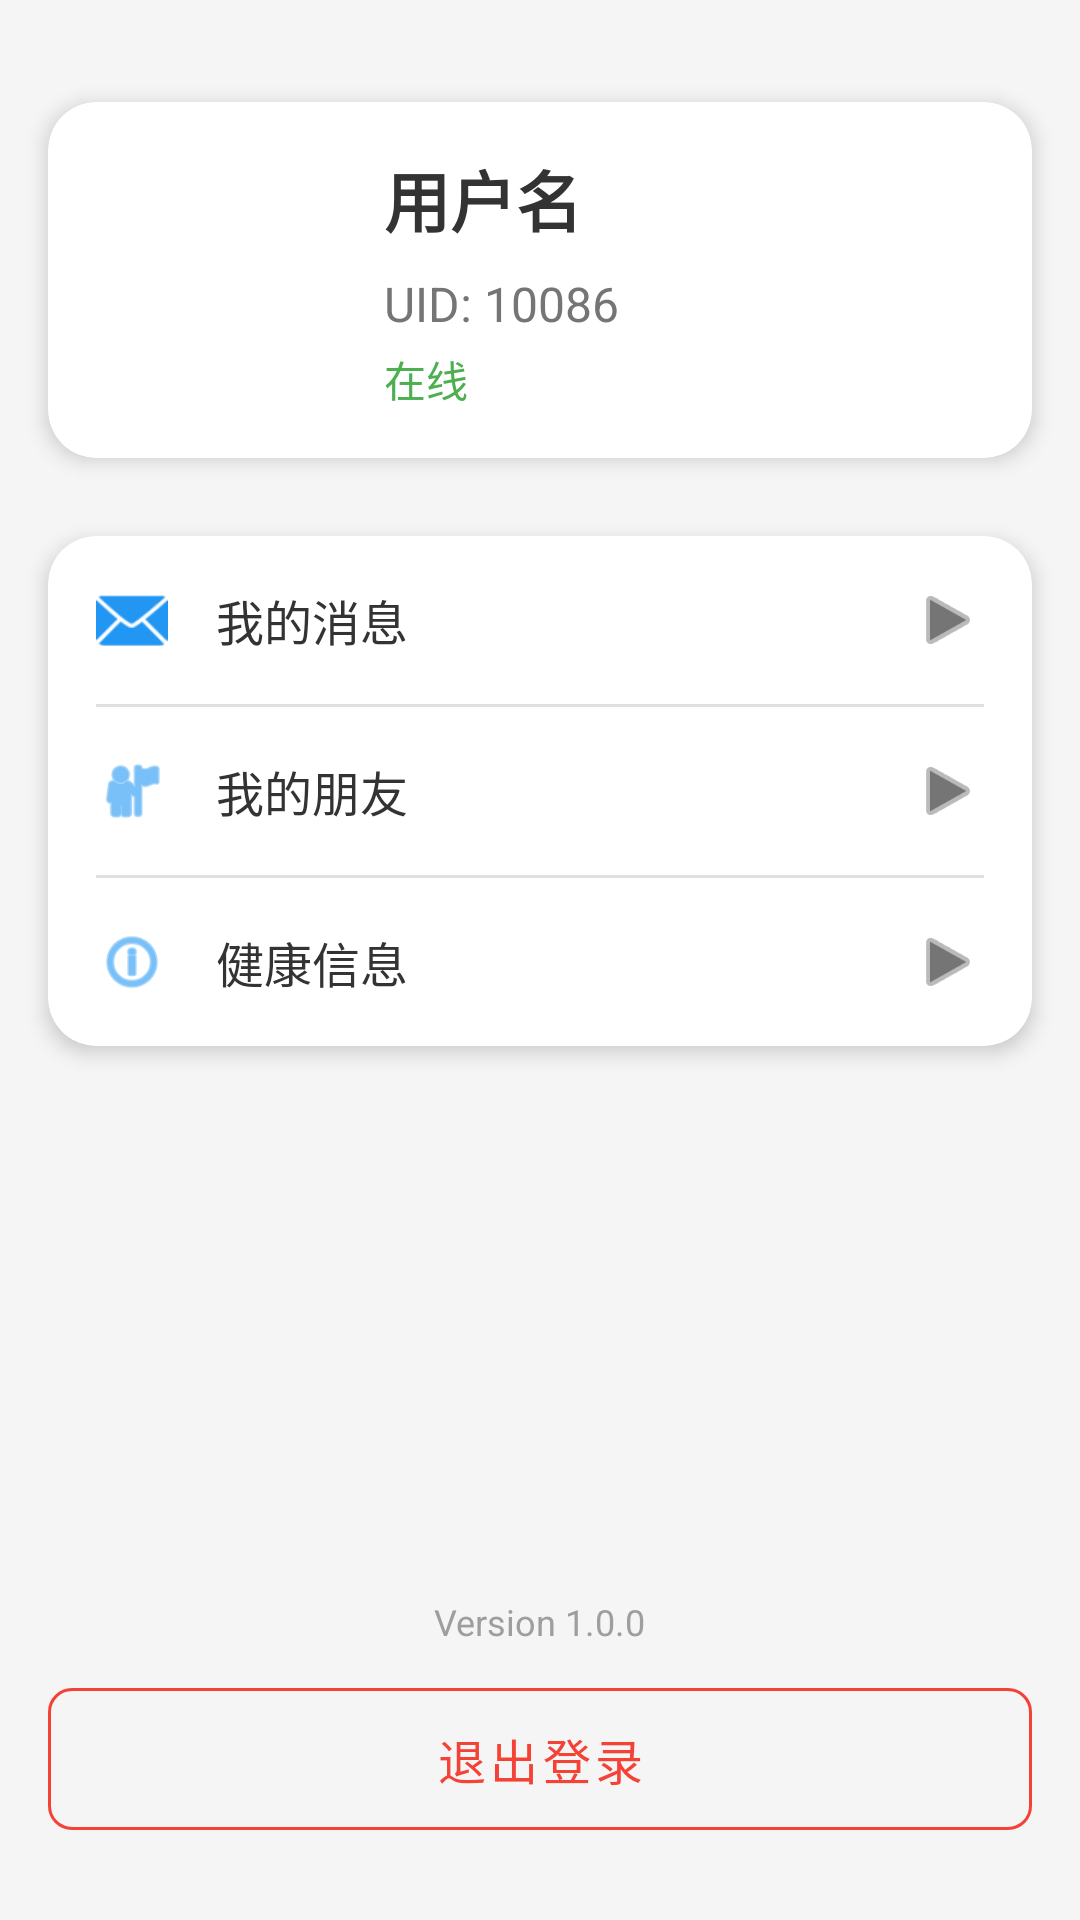

Where to tap for icons on this 1080w x 1920h app screen, as [x,y]:
email: [132,620]
info details: [132,962]
myplaces: [133,791]
play: [948,620], [948,791], [948,962]
